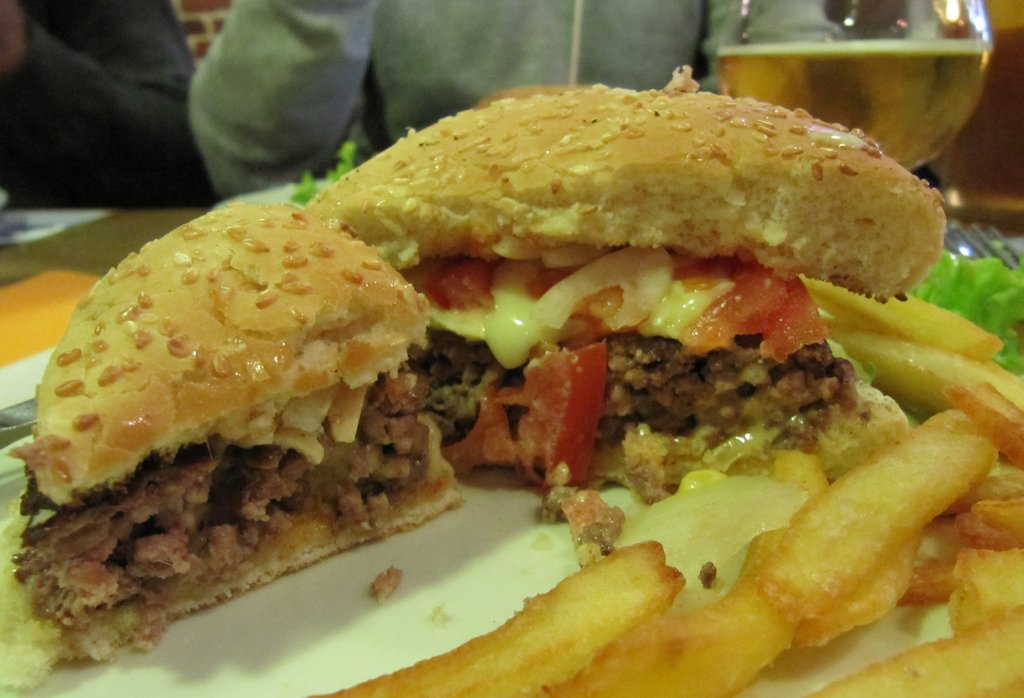French fries: (676, 303, 1016, 683)
